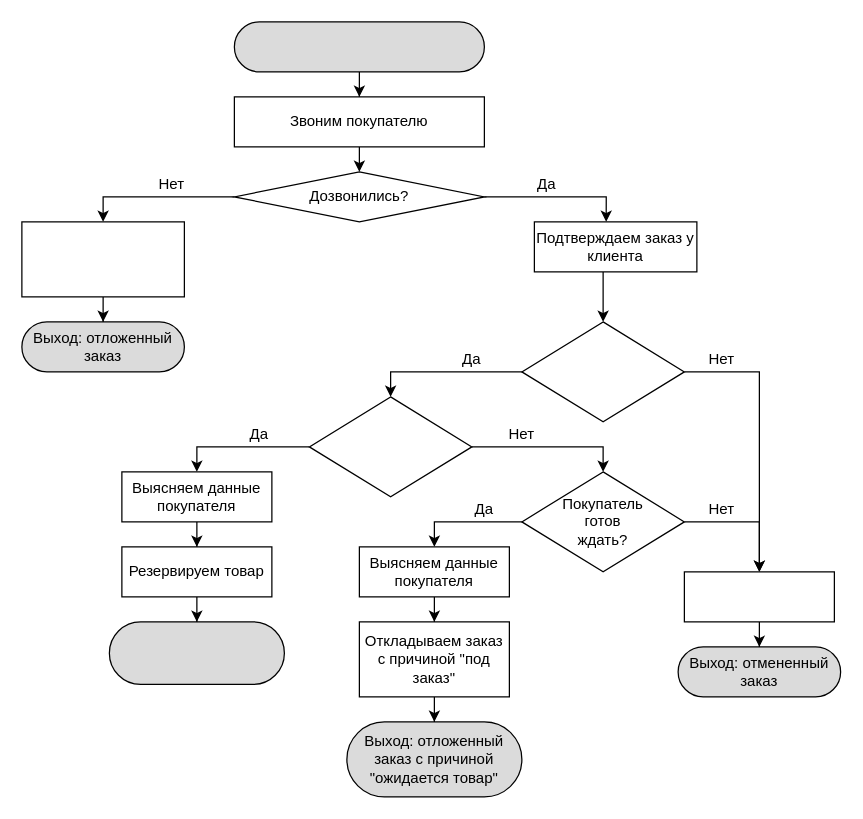
This 863x819 diagram has some shape labels left out. The shapes that lost their labels are listed below. From the top down, each one's box as (x1, y1, x2, y2) in pixels, then its label:
(233, 21, 484, 72): Вход: неподтвержденный заказ
(21, 221, 184, 297): Откладываем заказ с причиной "недозвон"
(521, 321, 684, 422): Покупатель подтвердил заказ?
(308, 396, 472, 497): Все товары в наличии?
(683, 571, 834, 622): Отменяем заказ
(108, 621, 284, 684): Выход: зарезервированный товар
